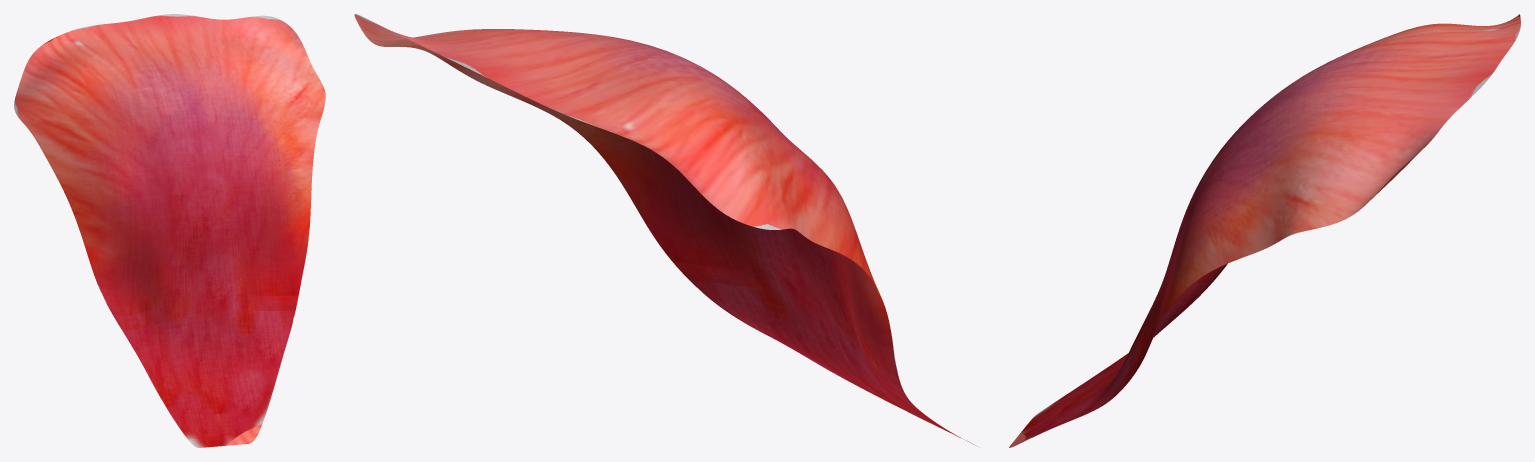
File: hibyscus_petal.glb
3 views of the same model, side by side, from view 1: azimuth 30°, elevation 25°; view 2: azimuth 150°, elevation 25°; view 3: azimuth 270°, elevation 25° (orthographic). The views are drawn at different scales.
Parts seen in each view (by area): view 1: pCube5; view 2: pCube5; view 3: pCube5.
Boxes of the visible parts, <box> form: pCube5: <box>14,14,325,447</box>; pCube5: <box>354,14,979,447</box>; pCube5: <box>1009,14,1520,447</box>.
Size of the model in its own units: 0.4608 by 0.4927 by 0.5374.
1 material, 1 textured.
